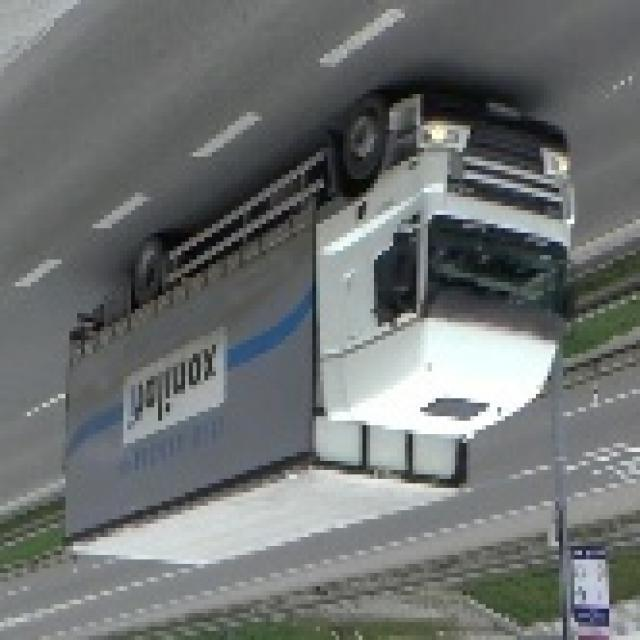truck: (73, 93, 582, 578)
